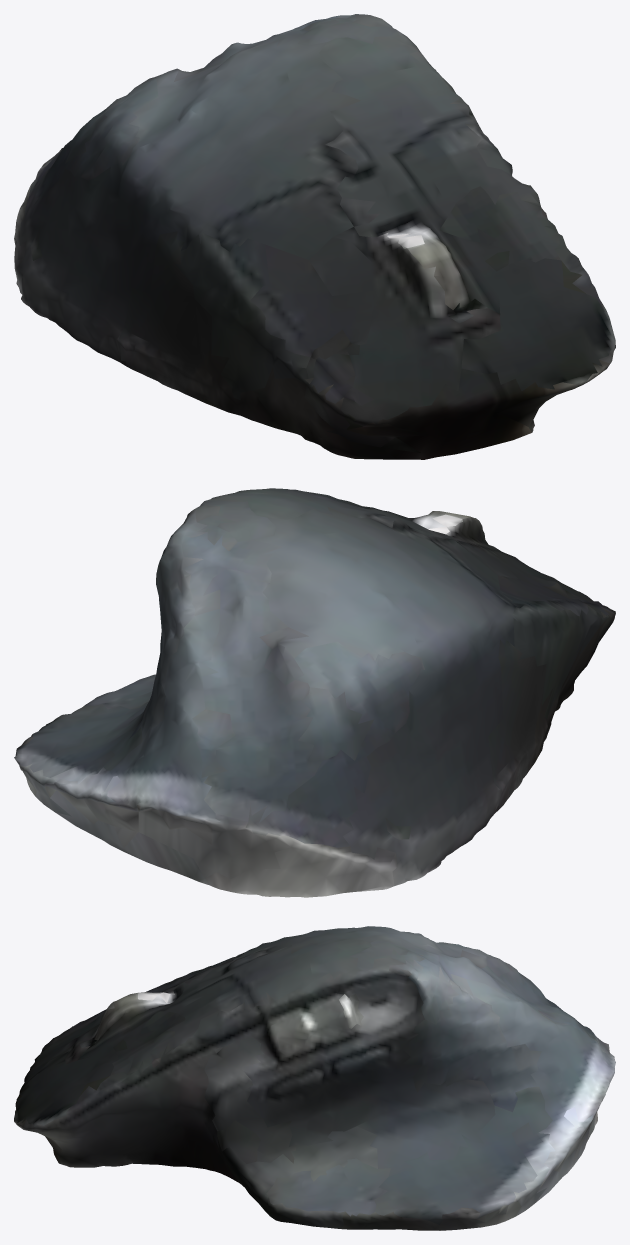
The model's file is mouse.glb.
The picture shows the model from 3 angles, top to bottom: view 1: azimuth 30°, elevation 25°; view 2: azimuth 150°, elevation 25°; view 3: azimuth 270°, elevation 25°; orthographic projection. The views are drawn at different scales.
Parts seen in each view (by area): view 1: mouse; view 2: mouse; view 3: mouse.
Boxes of the visible parts, bbox=[...] form: mouse: bbox=[14, 14, 615, 459]; mouse: bbox=[14, 488, 615, 897]; mouse: bbox=[14, 926, 615, 1230].
Size of the model in its own units: 0.0847 by 0.0494 by 0.125.
Materials: 1 (1 with a texture image).
